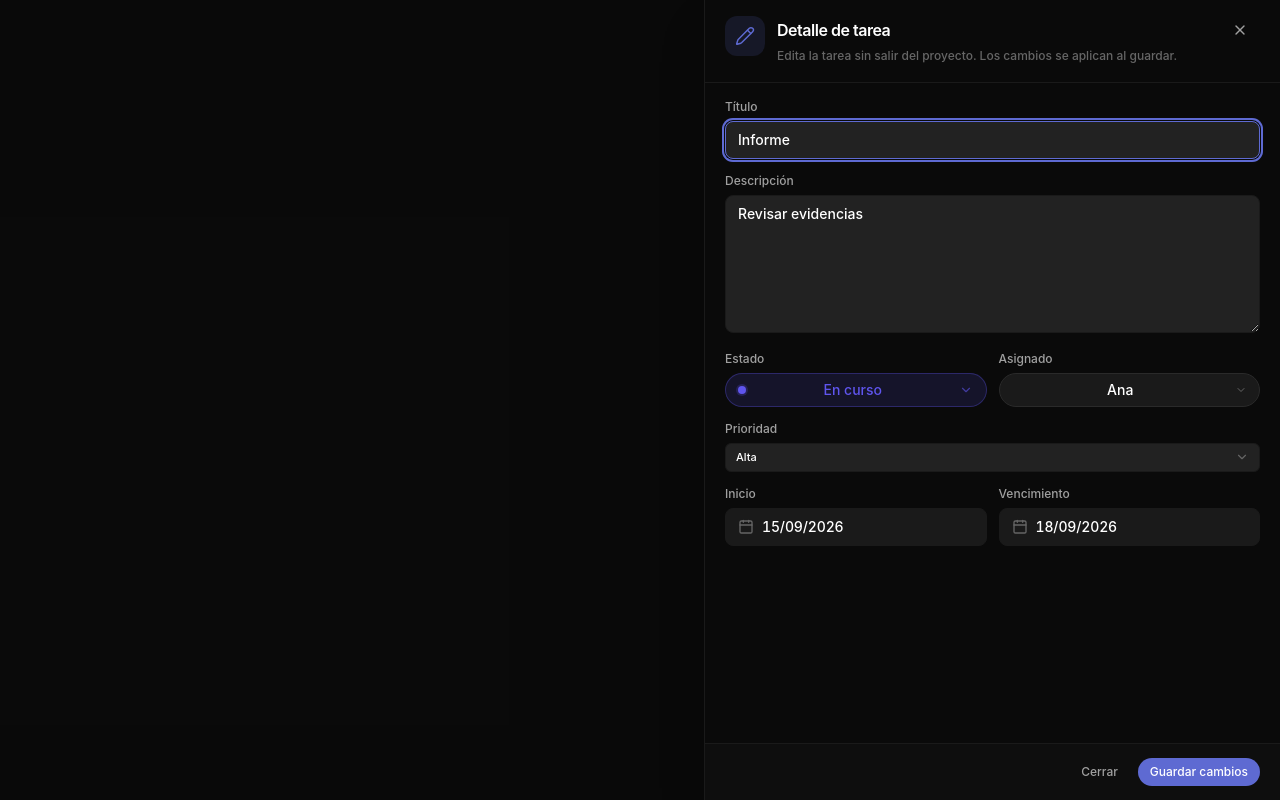
task detail panel › retains the draft and shows a recoverable error when saving fails
This screenshot has width=1280, height=800.
Replace the text in the text box labelled "Descripción" with "Mi borrador". click: coordinates (992, 264)
box: [725, 194, 1260, 332]
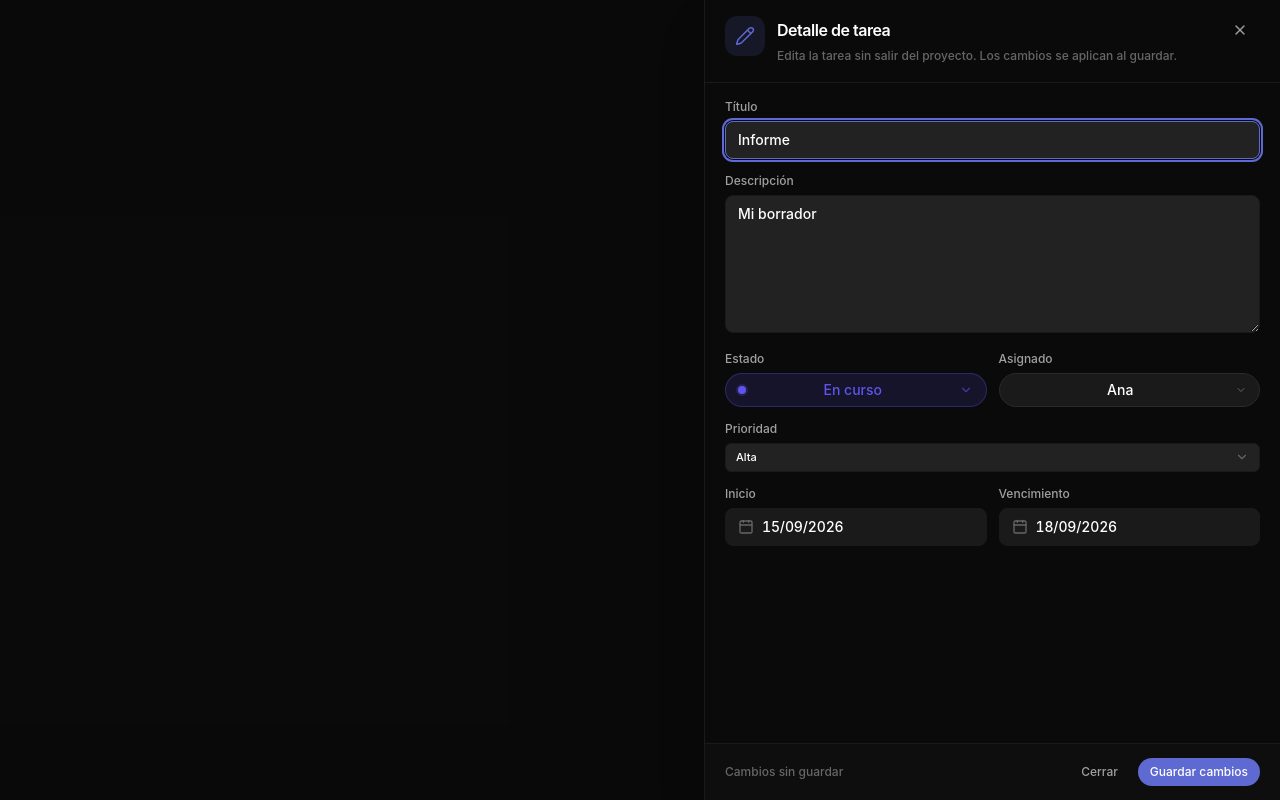
Click the button "Guardar cambios". click: coordinates (1199, 772)
box: [1138, 758, 1260, 786]
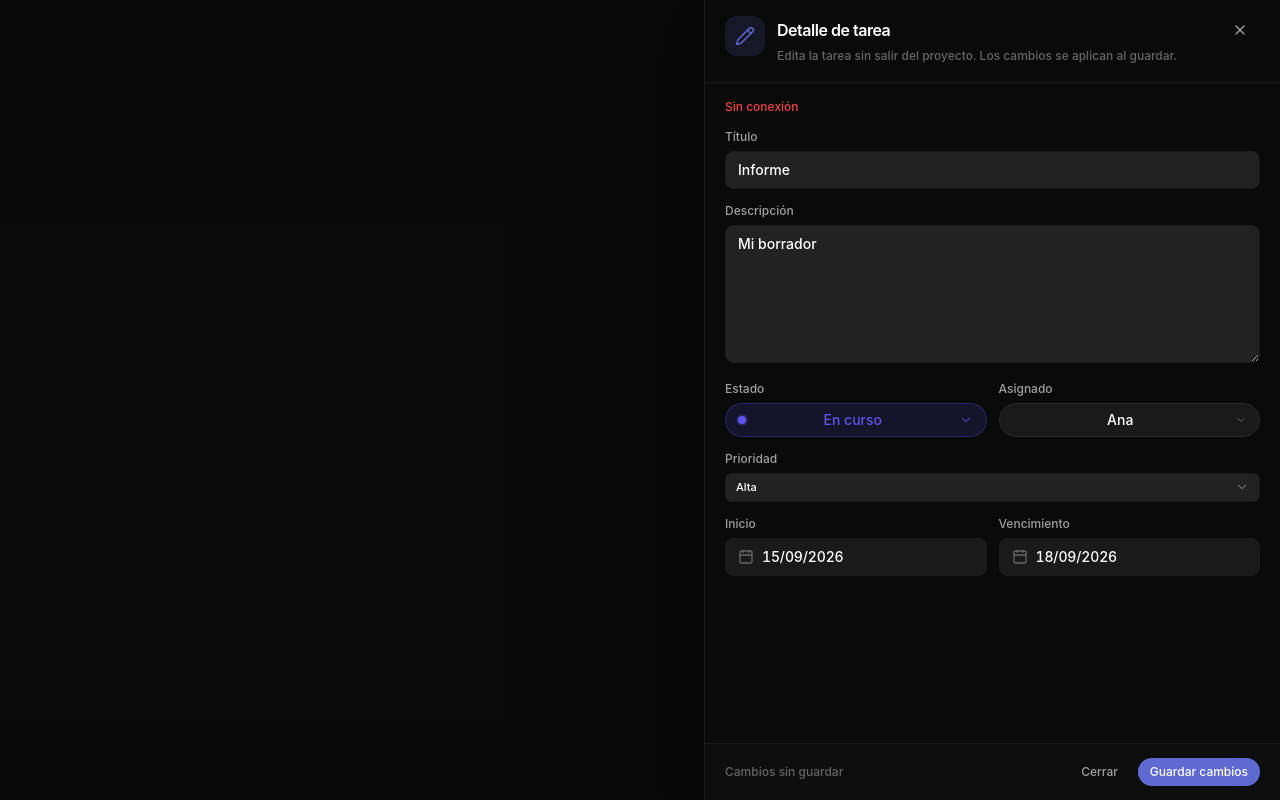
Check: the message reads "Sin conexión", box [725, 98, 799, 114]
